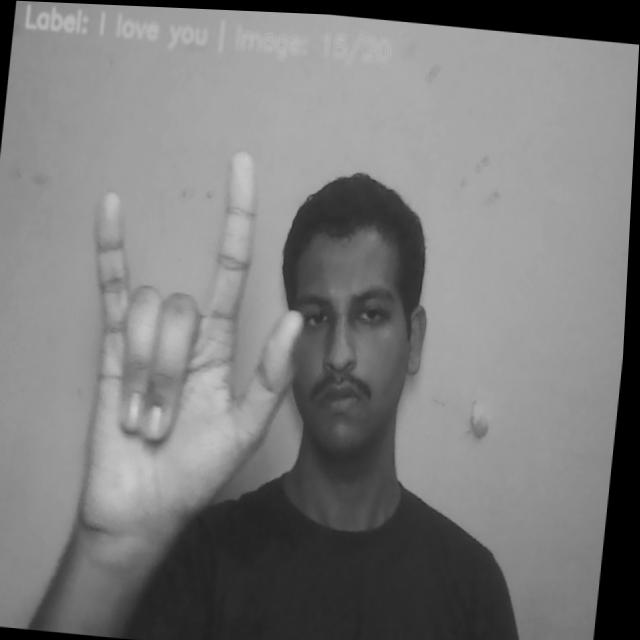I love you: (58, 134, 320, 529)
